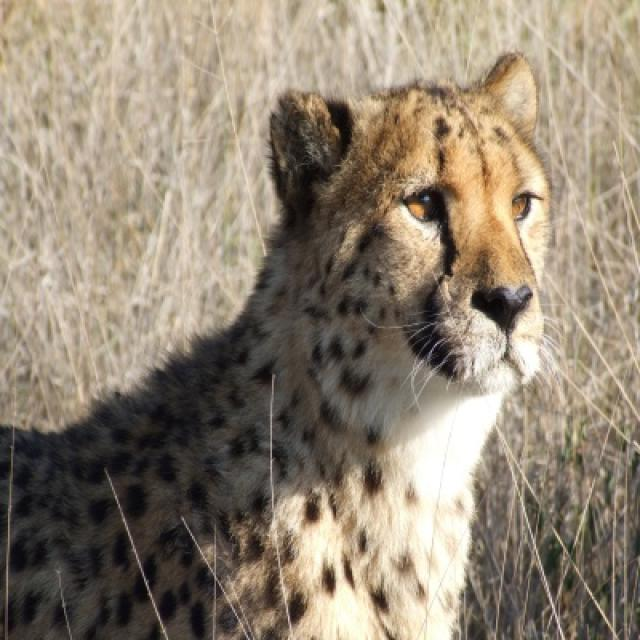Cheetah: (5, 48, 547, 638)
